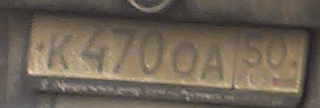character: (74, 20, 108, 81), (109, 21, 138, 81), (139, 26, 167, 83), (45, 29, 75, 75), (169, 39, 199, 85), (198, 41, 228, 87), (240, 29, 265, 68), (266, 29, 290, 69)
